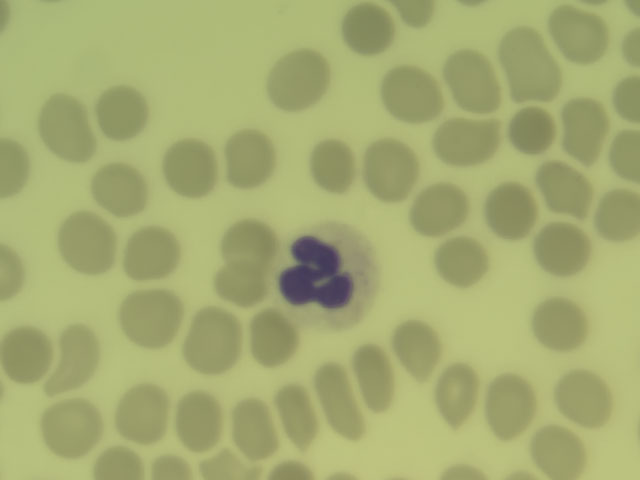RBC: (118, 270, 178, 359), (34, 94, 93, 159), (62, 215, 121, 280), (267, 48, 324, 115), (447, 46, 506, 110), (384, 65, 445, 126), (40, 396, 107, 451), (529, 425, 596, 480), (270, 382, 319, 449), (55, 324, 104, 391), (552, 368, 613, 421), (315, 363, 358, 435), (184, 310, 237, 367), (93, 164, 152, 214), (537, 156, 589, 211), (2, 328, 53, 384), (549, 7, 605, 57), (359, 140, 408, 197), (124, 227, 180, 276), (210, 254, 266, 303), (222, 219, 278, 268), (533, 222, 589, 271), (484, 184, 540, 233), (430, 235, 486, 284), (409, 184, 465, 233), (307, 140, 363, 189), (97, 89, 153, 138), (163, 143, 219, 192), (220, 131, 276, 180), (117, 384, 170, 435), (533, 298, 587, 348), (486, 374, 531, 434), (246, 308, 296, 361), (175, 391, 222, 445), (394, 319, 438, 376), (225, 390, 269, 447), (563, 95, 604, 156), (440, 363, 481, 424), (341, 9, 391, 59), (354, 343, 391, 410), (509, 105, 554, 156), (1, 124, 31, 192), (601, 185, 640, 234), (608, 127, 640, 178), (422, 460, 502, 478), (92, 452, 141, 480), (144, 452, 193, 480), (200, 452, 249, 480), (265, 452, 314, 480), (1, 233, 20, 305), (616, 74, 640, 117), (393, 1, 432, 27), (621, 28, 640, 70)
WBC: (281, 226, 375, 319)
